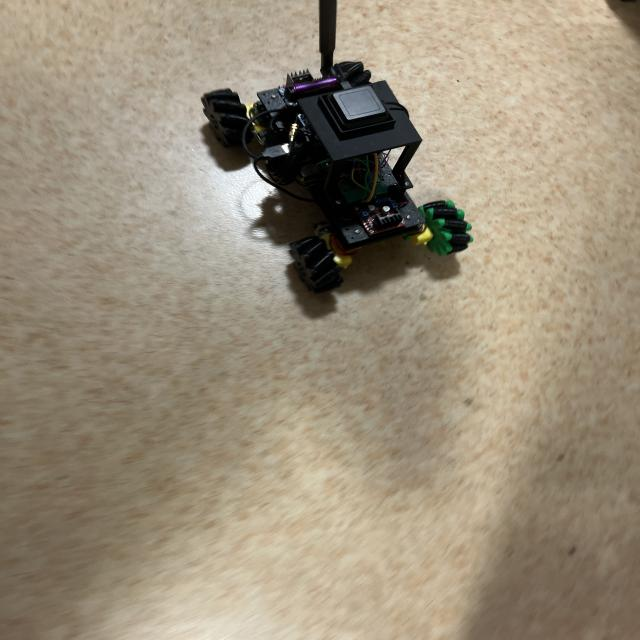robot: (201, 0, 472, 292)
